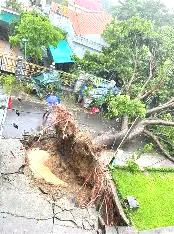ROAD_OBSTACLE: (2, 42, 172, 234)
